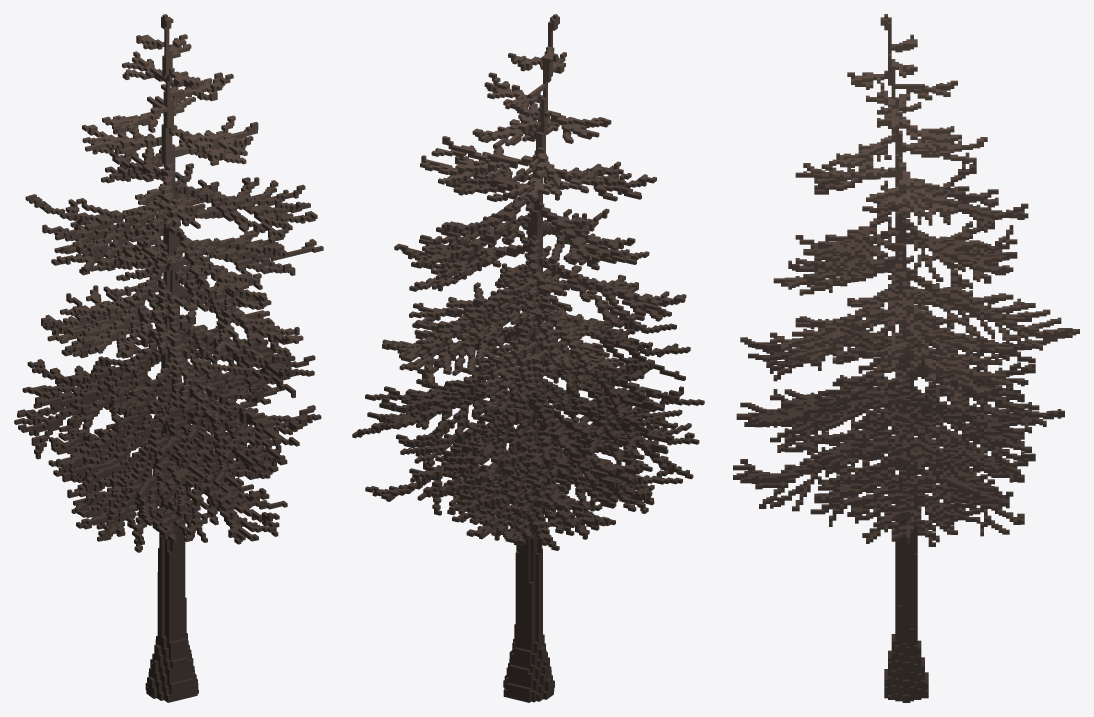
The model's file is 2_voxtree_trunk.fbx.
3 views of the same model, side by side, from view 1: azimuth 30°, elevation 25°; view 2: azimuth 150°, elevation 25°; view 3: azimuth 270°, elevation 25° (orthographic). The views are drawn at different scales.
Parts seen in each view (by area): view 1: blender_trunk.003; view 2: blender_trunk.003; view 3: blender_trunk.003.
Part boxes in pixels (x1,y1,x2,y2): blender_trunk.003: (14,14,323,702); blender_trunk.003: (352,14,704,702); blender_trunk.003: (733,14,1079,702).
Size of the model in its own units: 890 by 2000 by 940.
1 material, 1 textured.
